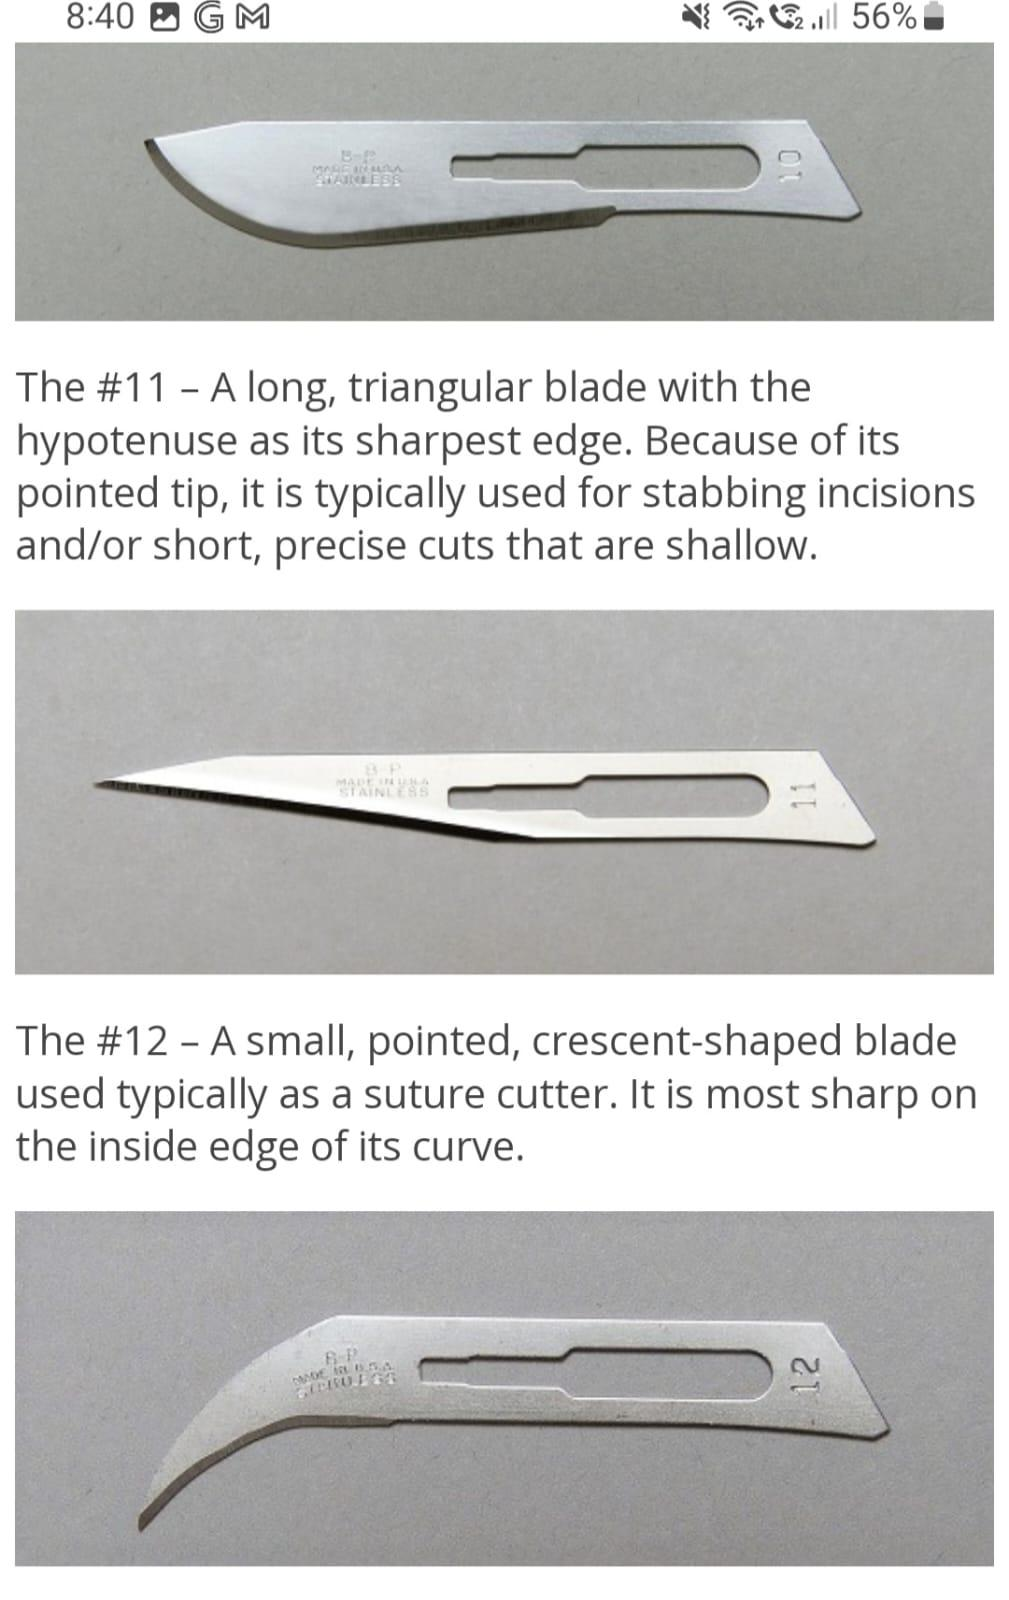Surgical blade: (113, 1265, 897, 1555), (72, 697, 885, 885), (143, 89, 878, 263)
